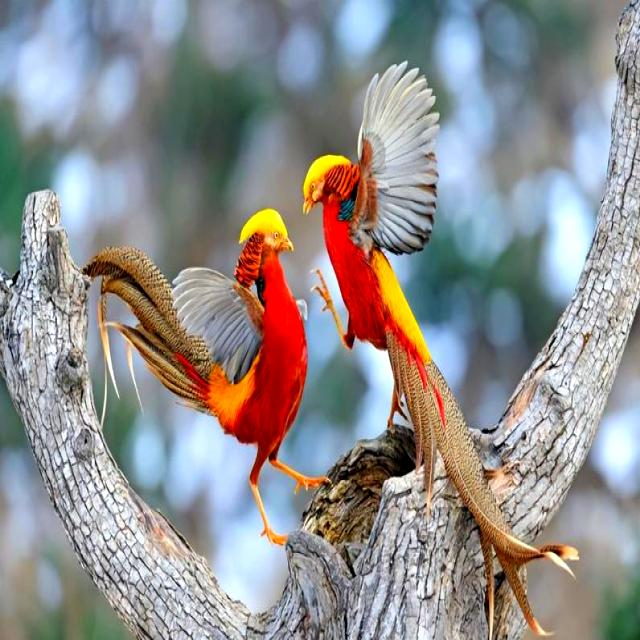Chrysolophus pictus feather: (387, 333, 581, 640), (81, 247, 215, 429)
